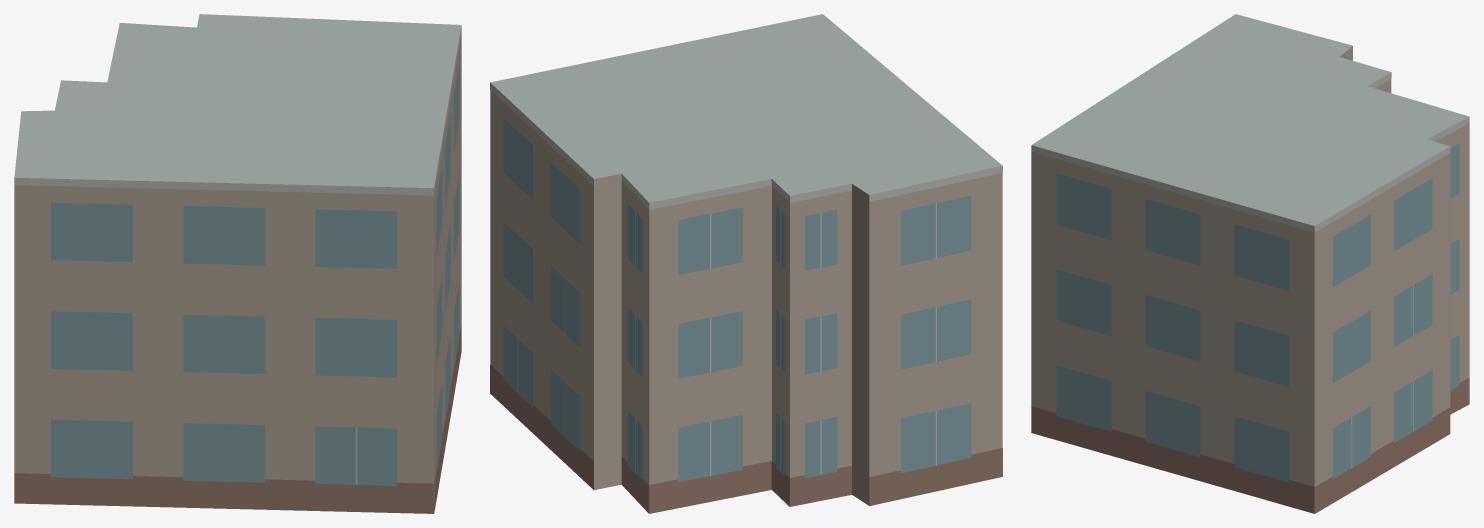
The model's file is survey-upis-32668812.glb.
3 renders of one model, left to right at view 1: azimuth 30°, elevation 25°; view 2: azimuth 150°, elevation 25°; view 3: azimuth 270°, elevation 25°, orthographic. The views are drawn at different scales.
Visible parts, largest first — view 1: survey-upis-32668812.tmp; view 2: survey-upis-32668812.tmp; view 3: survey-upis-32668812.tmp.
Part boxes in pixels (left/top/right/bottom): survey-upis-32668812.tmp: left=14, top=14, right=461, bottom=513; survey-upis-32668812.tmp: left=490, top=14, right=1002, bottom=513; survey-upis-32668812.tmp: left=1031, top=14, right=1469, bottom=513.
Bounding box in the file's own units: 17.09 × 10.8 × 14.92.
